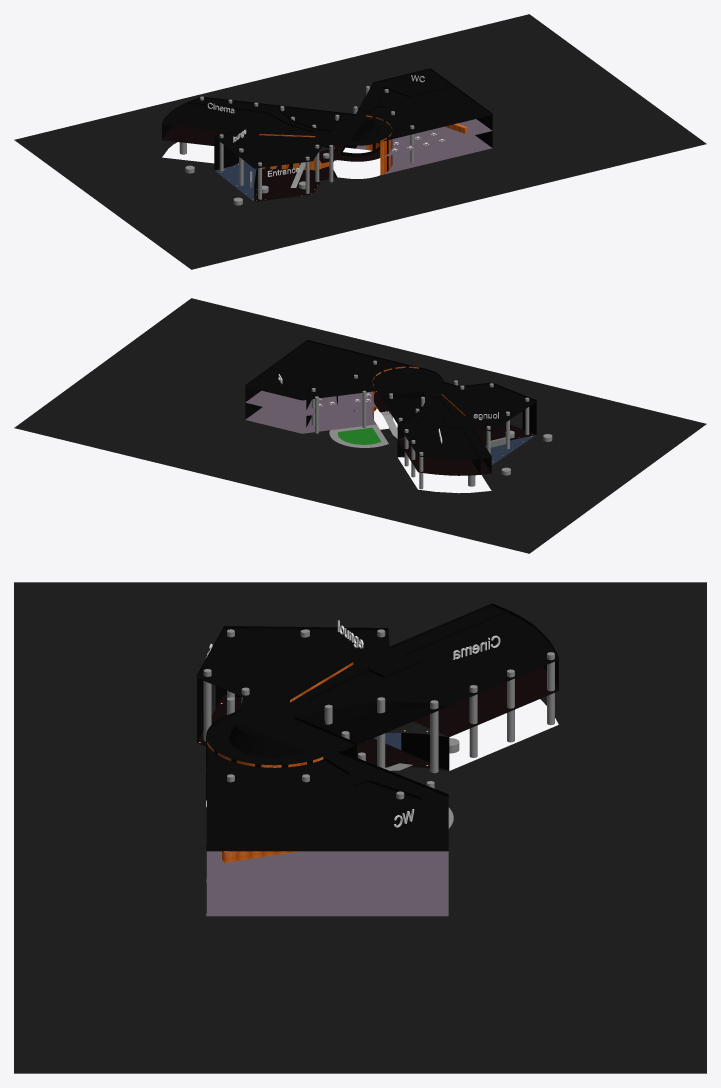
File: CinemaEnterancec.fbx
The picture shows the model from 3 angles, top to bottom: view 1: azimuth 30°, elevation 25°; view 2: azimuth 150°, elevation 25°; view 3: azimuth 270°, elevation 25°; orthographic projection. The views are drawn at different scales.
Parts seen in each view (by area): view 1: Line001, Object005, Object002; view 2: Line001, Object005, Object002, Object001; view 3: Line001, Object005, Object002, Object003.
Part boxes in pixels (x1,y1,x2,y2): Line001: [14, 14, 706, 269]; Object005: [162, 69, 491, 168]; Object002: [162, 68, 492, 201]; Line001: [14, 298, 706, 553]; Object005: [245, 341, 536, 459]; Object002: [245, 340, 536, 475]; Object001: [329, 424, 388, 447]; Line001: [14, 582, 706, 1073]; Object005: [197, 606, 558, 851]; Object002: [197, 603, 558, 916]; Object003: [401, 733, 449, 770].
Size of the model in its own units: 2833 by 227 by 1690.
Materials: 11 (1 with a texture image).
